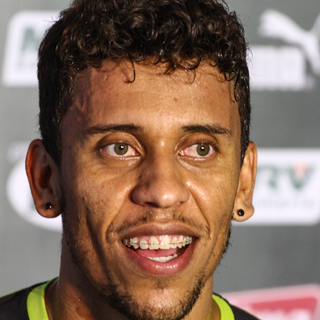eye: (94, 139, 144, 162), (173, 138, 219, 161)
